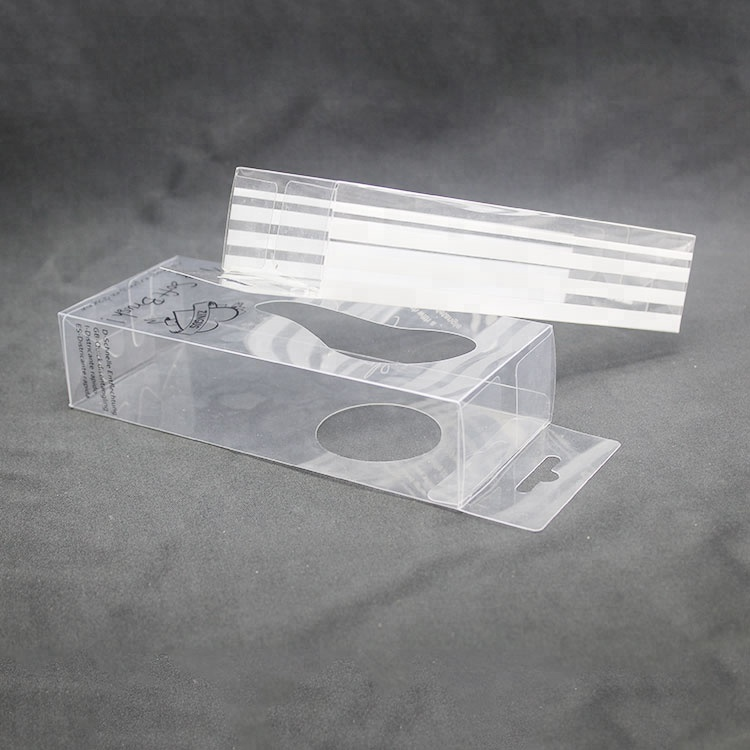PlasticBox: (50, 161, 700, 540)
